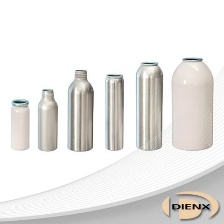bottle: (168, 54, 216, 152), (132, 59, 165, 152), (64, 67, 96, 153), (103, 70, 125, 151), (36, 87, 59, 153), (8, 95, 31, 152)
